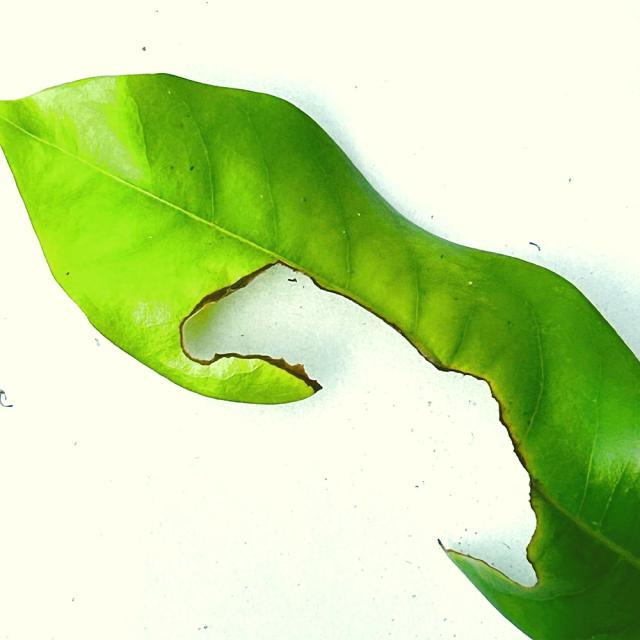Deficiency Leaf: (184, 264, 536, 585)
Lychee: (0, 74, 639, 632)
